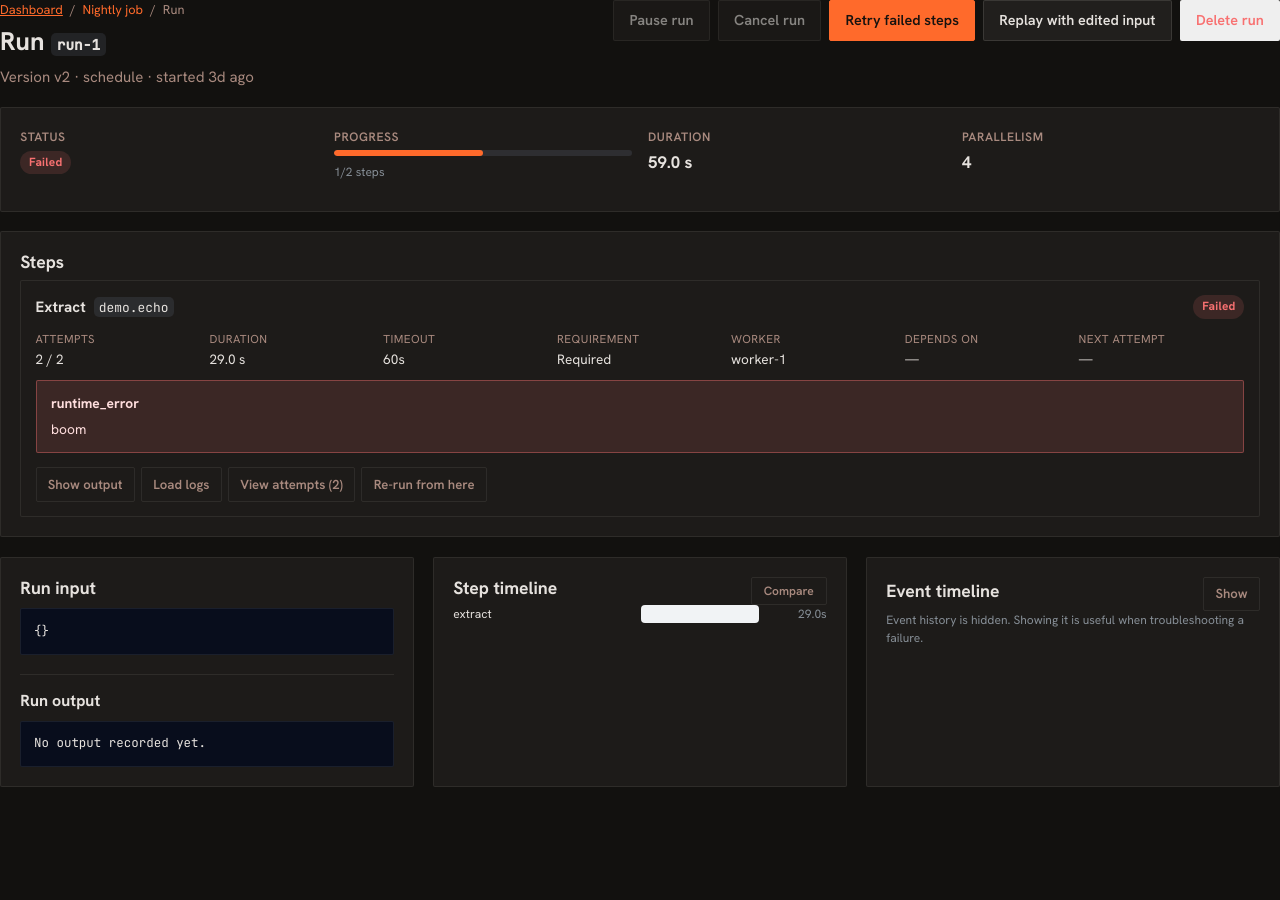
Test: RunDetailPage › deletes a finished run after confirmation and navigates to the workflow
Check: the text "Extract" is shown, box x1=36 y1=296 x2=86 y2=316
Click the button "Delete run": point(1230, 21) x1=1180 y1=0 x2=1279 y2=41
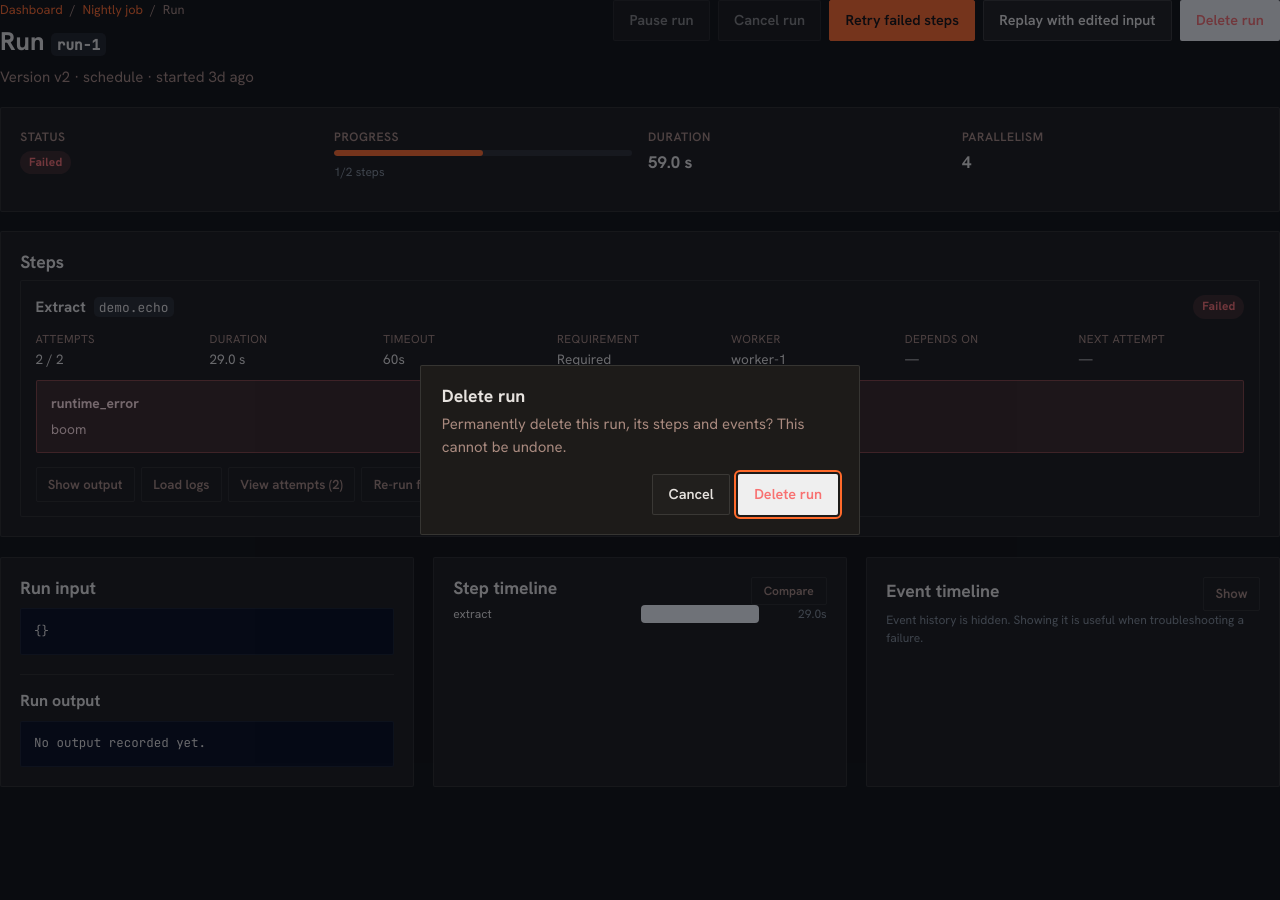
Click the button "Delete run": point(788, 495) x1=738 y1=474 x2=838 y2=515
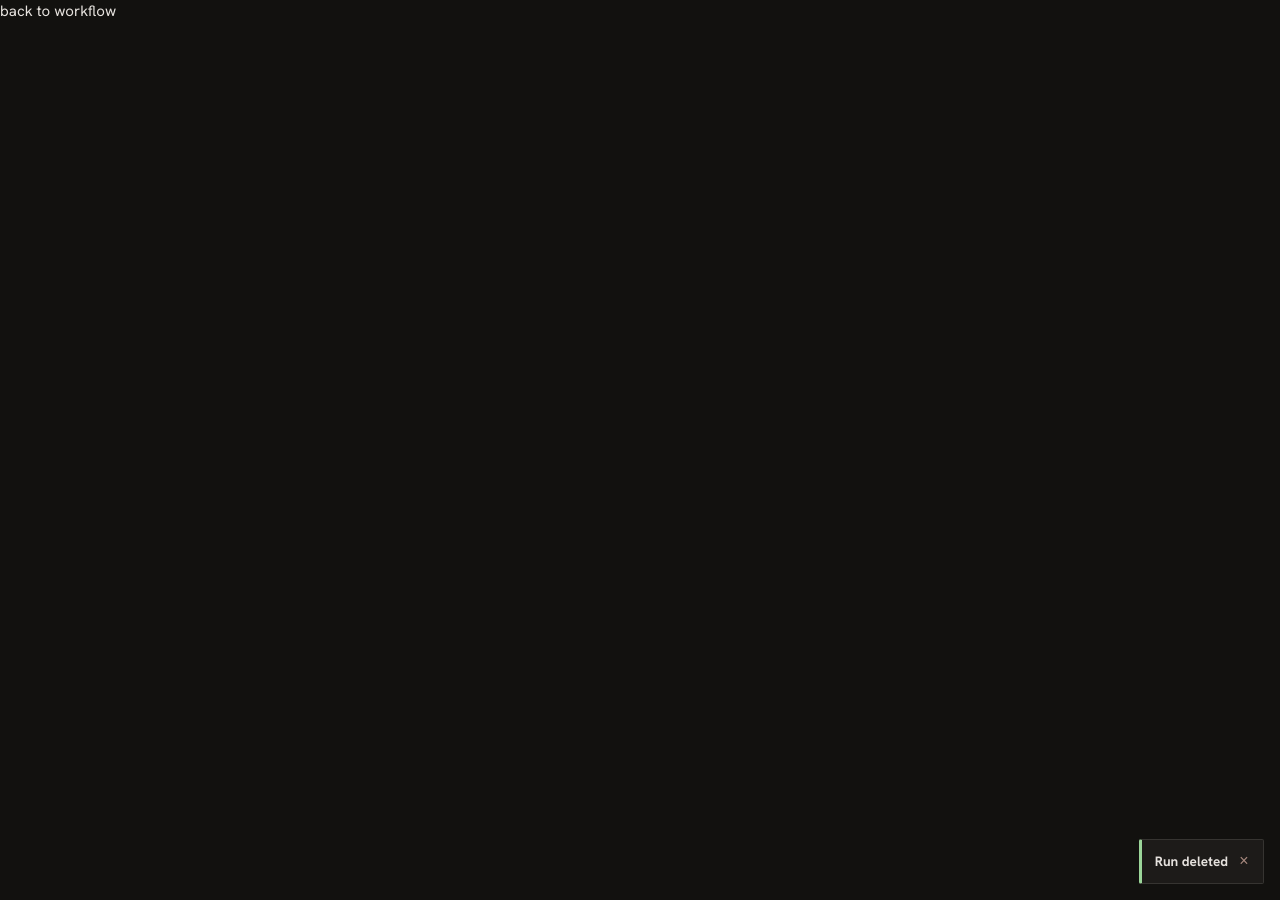
Check: the text "back to workflow" is shown, box x1=0 y1=1 x2=116 y2=21
